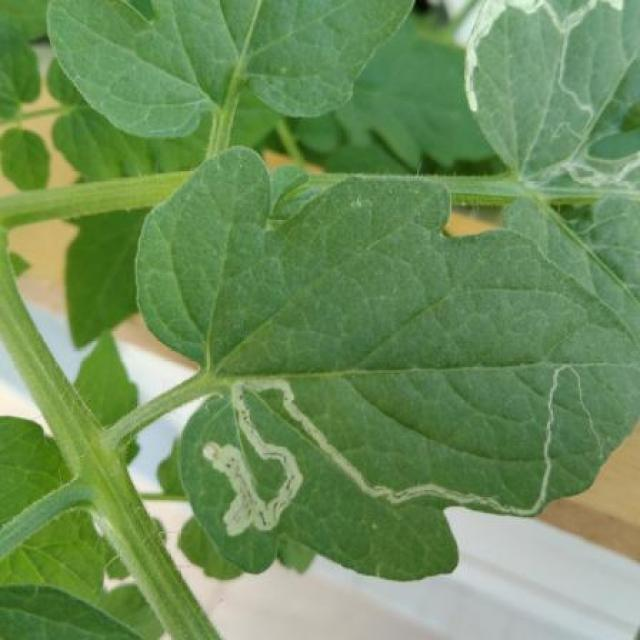Leaf Miner: (133, 145, 640, 586)
